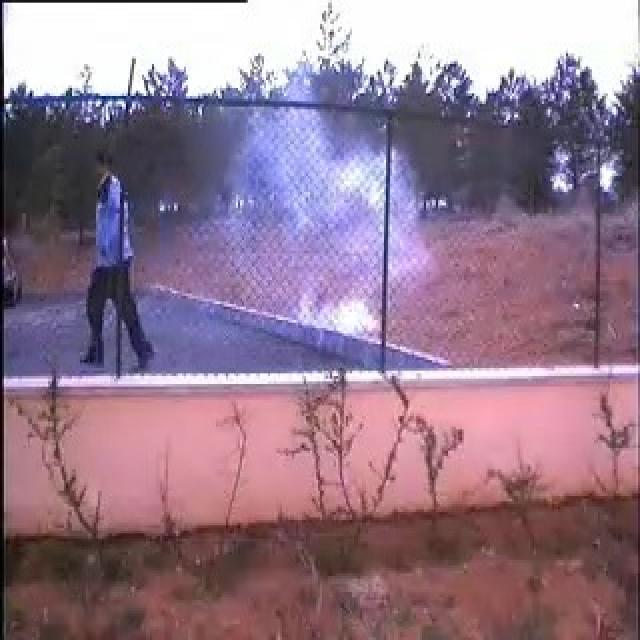smoke: (233, 123, 392, 342)
